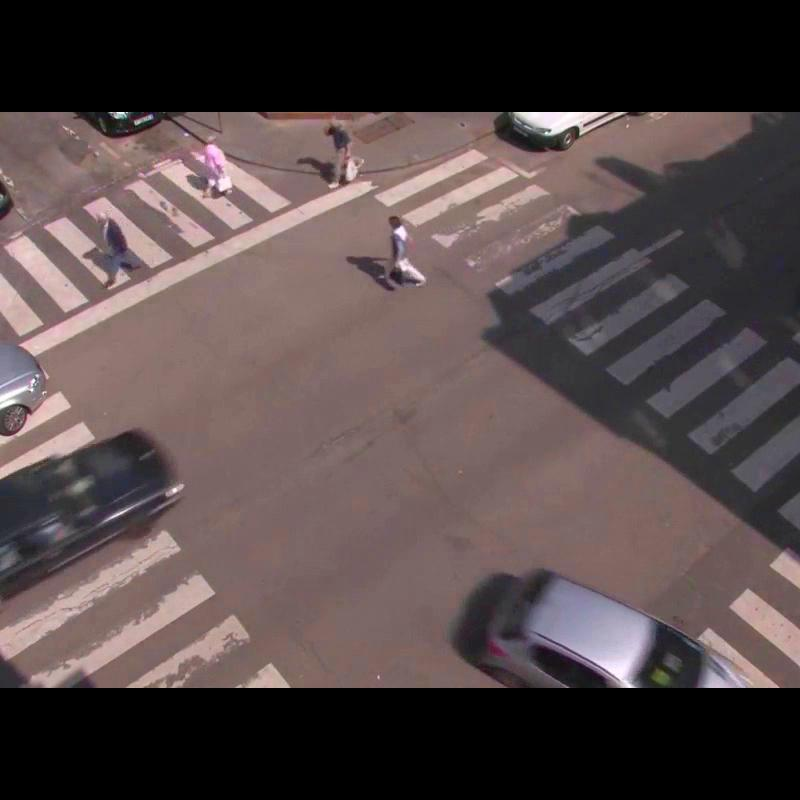car: (0, 424, 188, 644), (474, 570, 751, 688), (749, 207, 800, 340), (0, 336, 41, 489)
people: (377, 218, 426, 289), (93, 210, 136, 286), (324, 112, 363, 191), (196, 129, 235, 201)
